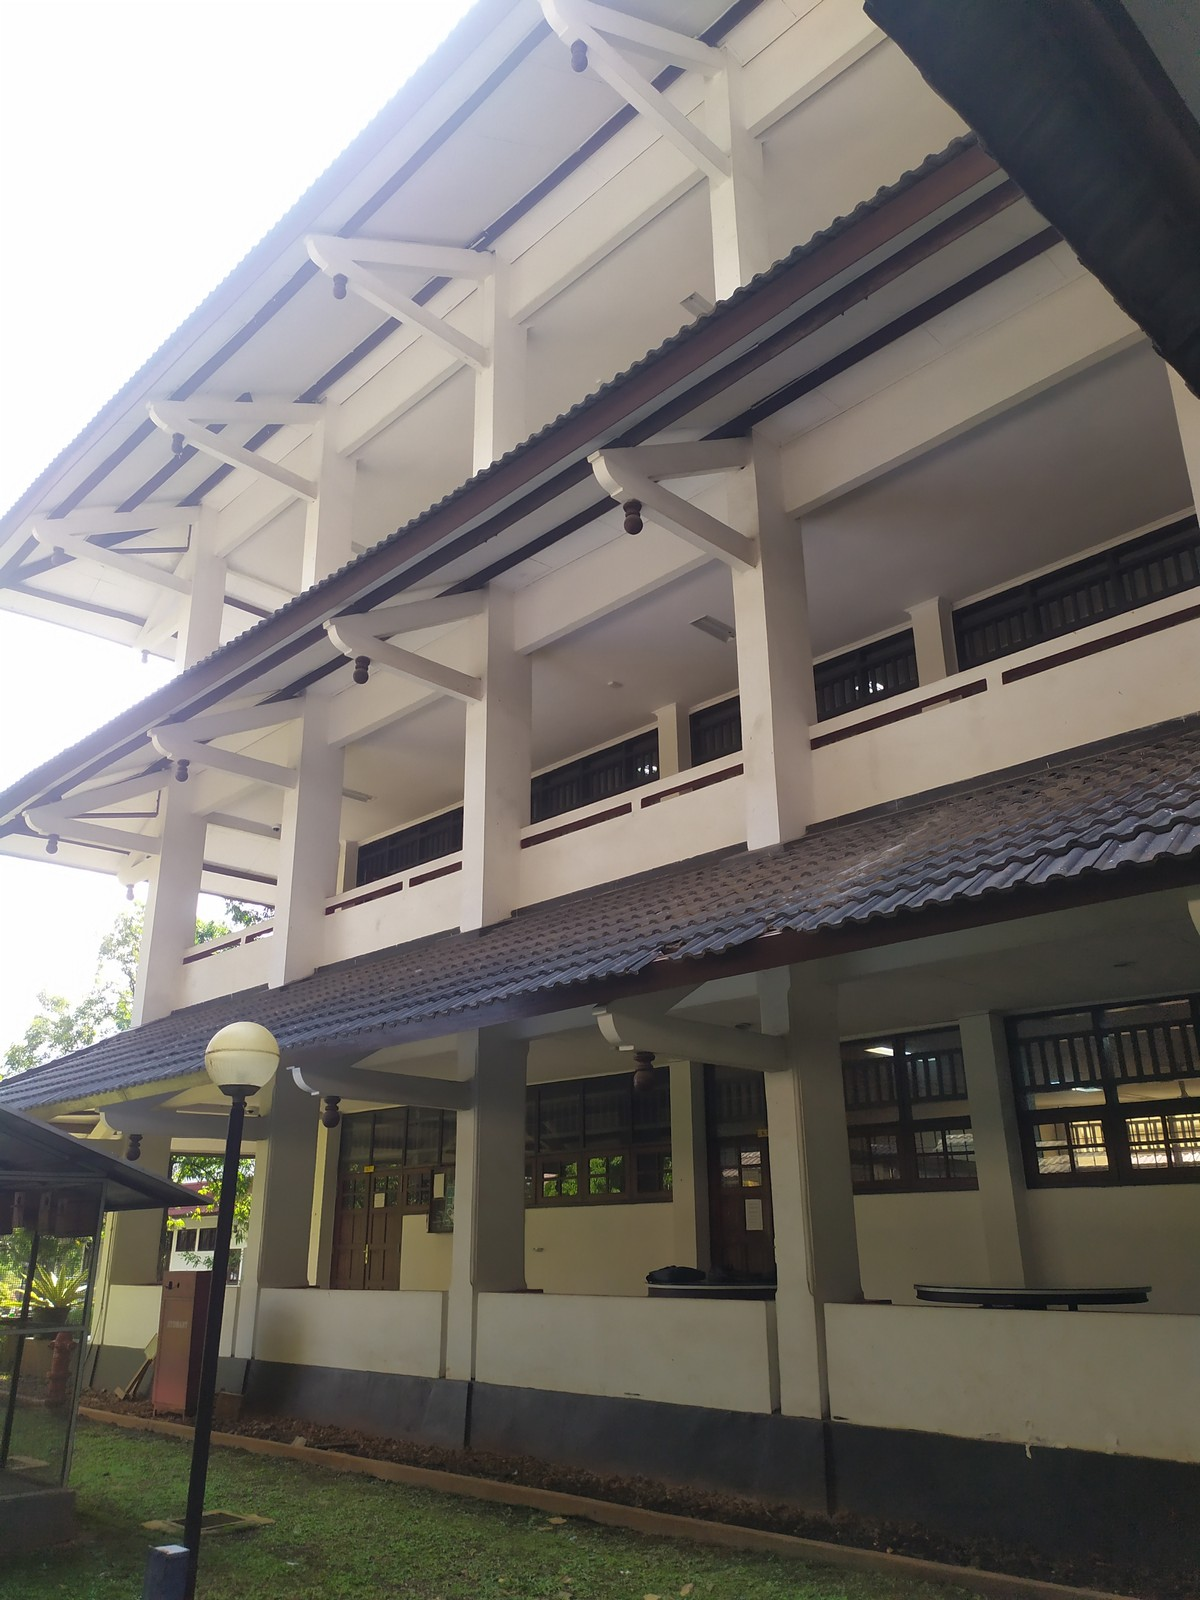concrete beam: (658, 488, 768, 569), (384, 646, 492, 708), (200, 746, 299, 792)
concrete column: (758, 1070, 868, 1382), (729, 569, 829, 857), (449, 711, 539, 936), (442, 1099, 534, 1313), (274, 787, 337, 993), (703, 160, 787, 289), (139, 858, 200, 1022), (465, 358, 542, 475)
